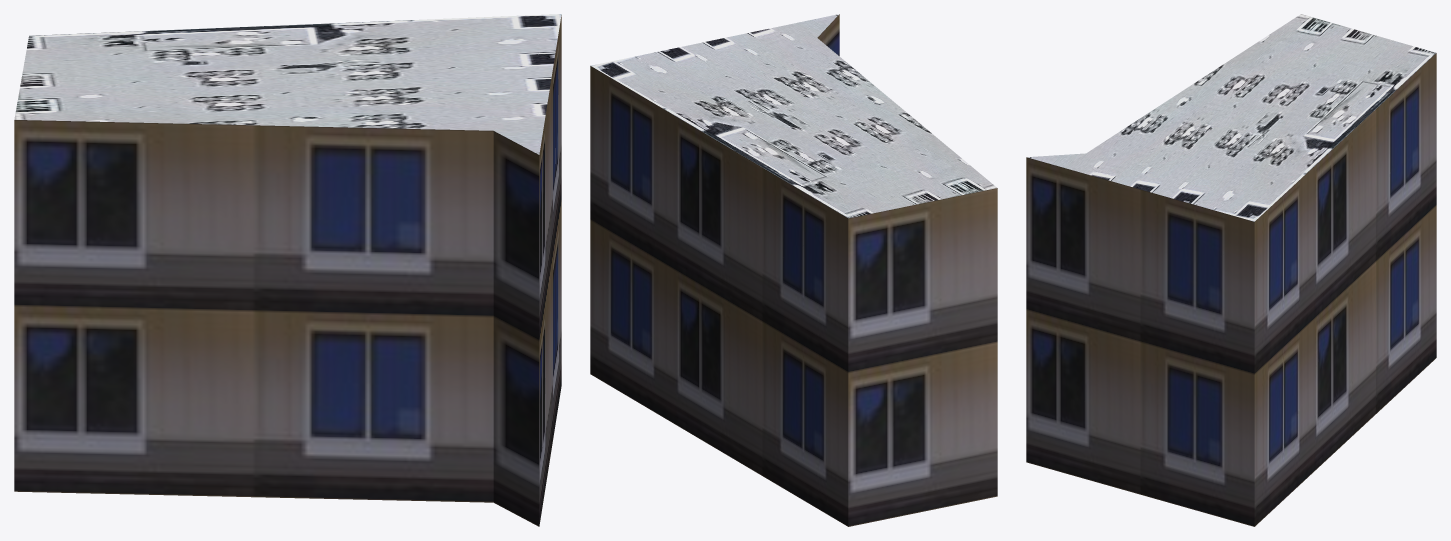
File: ResTex__4216.fbx
The picture shows the model from 3 angles, left to right: view 1: azimuth 30°, elevation 25°; view 2: azimuth 150°, elevation 25°; view 3: azimuth 270°, elevation 25°; orthographic projection. The views are drawn at different scales.
Parts seen in each view (by area): view 1: CityEngineMaterial_5_m, CityEngineMaterial_m; view 2: CityEngineMaterial_5_m, CityEngineMaterial_m; view 3: CityEngineMaterial_5_m, CityEngineMaterial_m.
Boxes of the visible parts, <box> form: CityEngineMaterial_5_m: <box>14,15,561,526</box>; CityEngineMaterial_m: <box>14,14,561,154</box>; CityEngineMaterial_5_m: <box>590,14,997,526</box>; CityEngineMaterial_m: <box>591,14,996,218</box>; CityEngineMaterial_5_m: <box>1026,53,1436,526</box>; CityEngineMaterial_m: <box>1027,14,1435,221</box>.
Size of the model in its own units: 8.76 by 6 by 7.31.
Materials: 2 (2 with a texture image).
